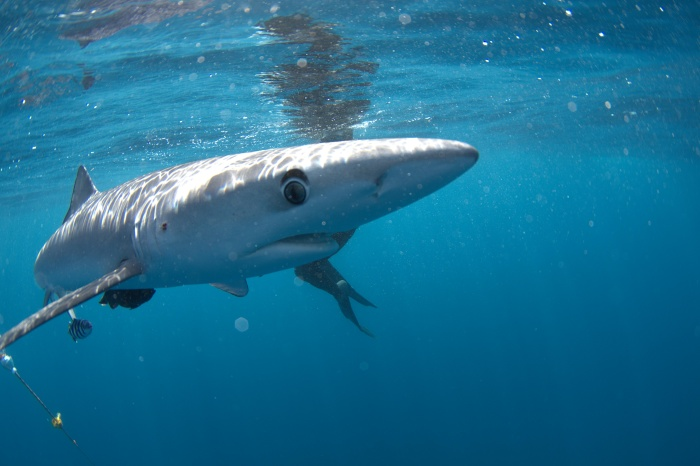Azul: (1, 96, 523, 363)
